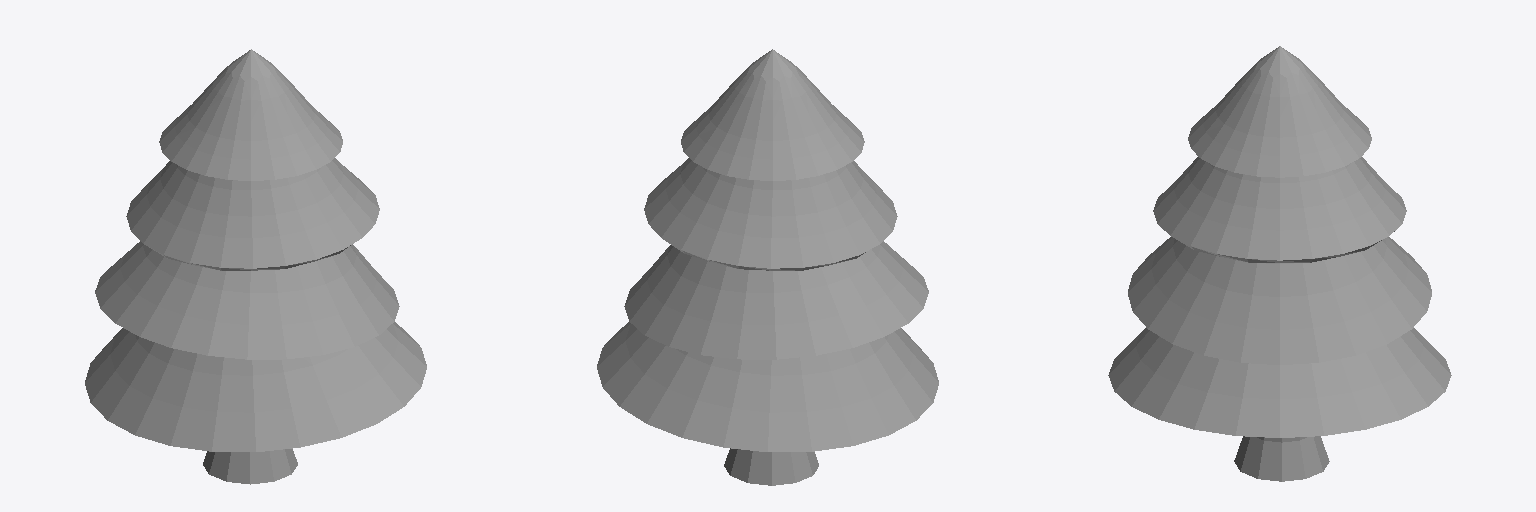
The model's file is tree1.obj.
The picture shows the model from 3 angles: view 1: azimuth 30°, elevation 25°; view 2: azimuth 150°, elevation 25°; view 3: azimuth 270°, elevation 25°; orthographic projection.
Parts seen in each view (by area): view 1: Cartoon_tree2; view 2: Cartoon_tree2; view 3: Cartoon_tree2.
Part boxes in pixels (x1,y1,x2,y2): Cartoon_tree2: (85, 49, 426, 484); Cartoon_tree2: (597, 49, 938, 485); Cartoon_tree2: (1108, 46, 1451, 481).
Bounding box in the file's own units: 13.81 × 18.49 × 13.83.